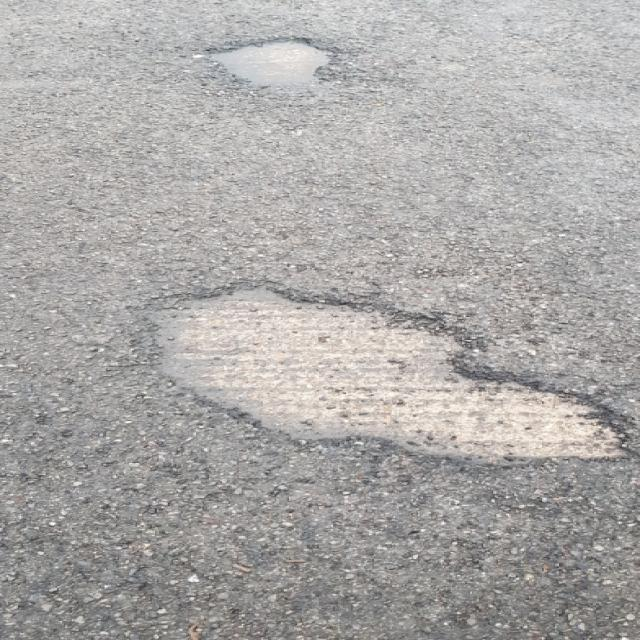pothole: (129, 272, 640, 470), (200, 34, 352, 91)
